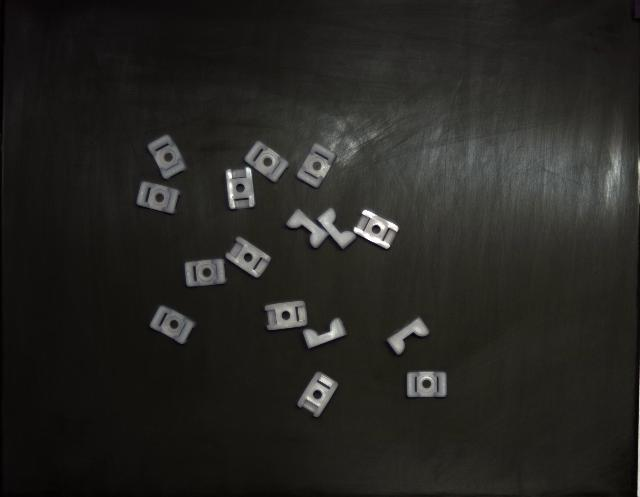first_side: (245, 141, 289, 182), (148, 135, 188, 180), (296, 144, 336, 189), (150, 306, 196, 345), (136, 181, 181, 214), (185, 259, 226, 288), (406, 371, 446, 398)
second_side: (226, 238, 271, 279), (298, 372, 338, 418), (354, 210, 399, 249), (265, 301, 308, 331), (226, 168, 255, 210)
third_side: (386, 318, 429, 355), (318, 209, 356, 250), (302, 318, 346, 349)
